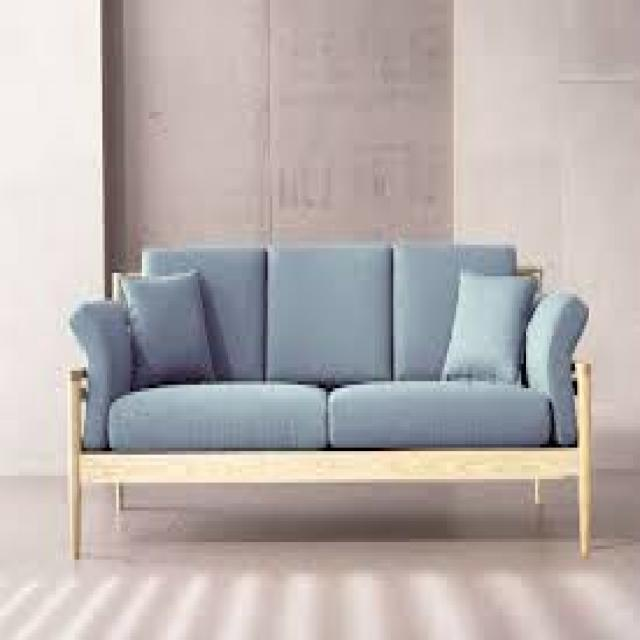Sofa: (37, 209, 616, 591)
